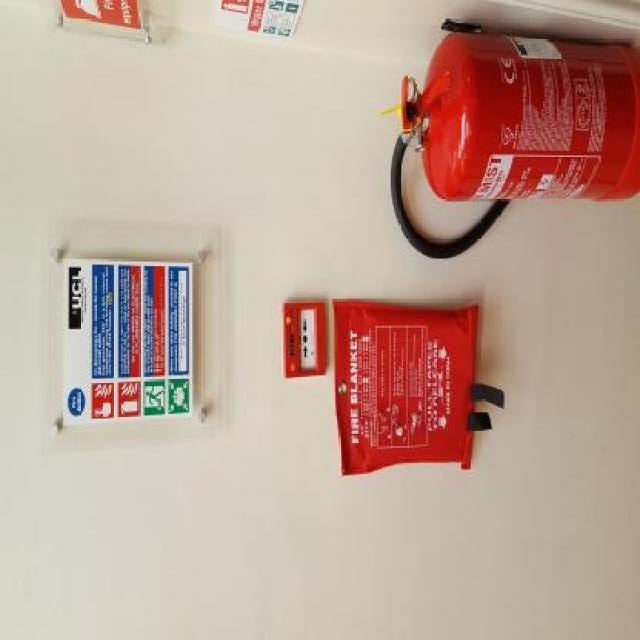fire extinguisher: (389, 31, 640, 260)
